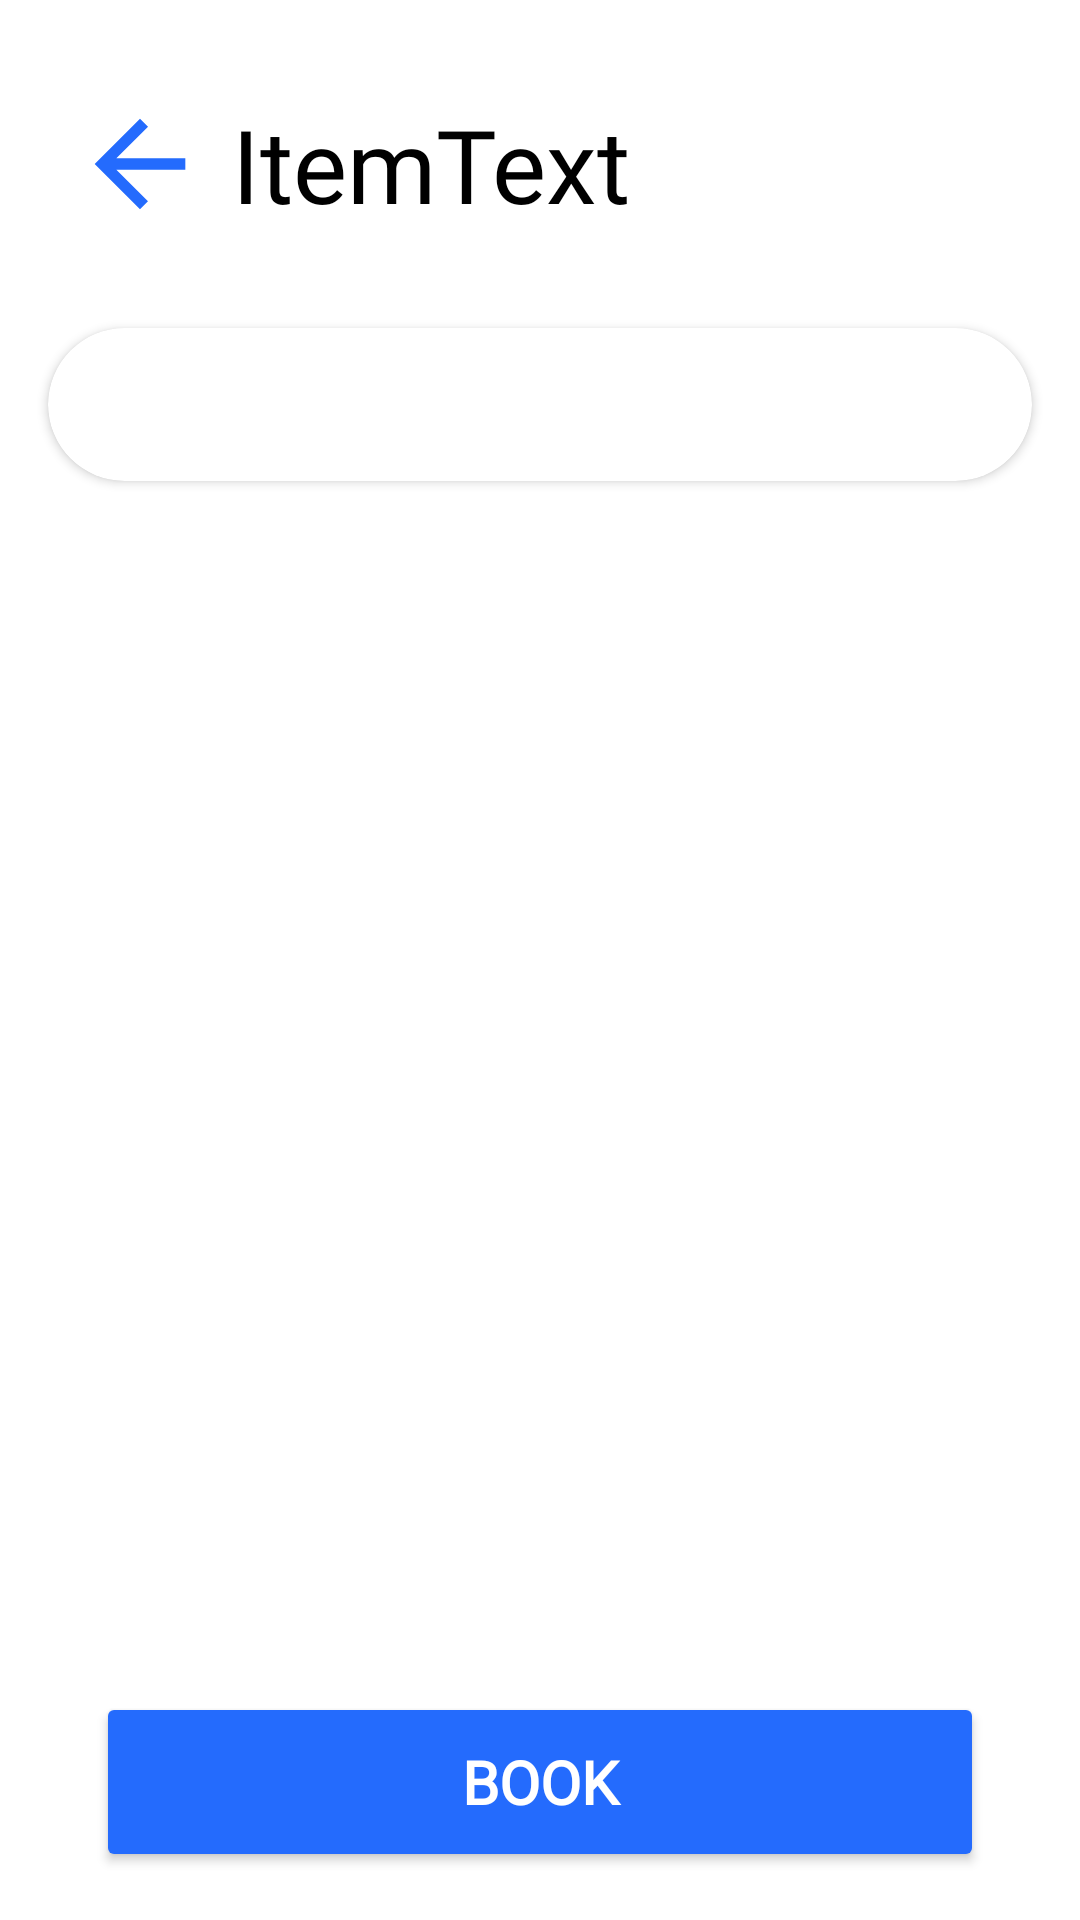

Where to tap for icons on this 1080 × 1920 app screen, as (x=x, y=y):
arrow back: (x=140, y=164)
